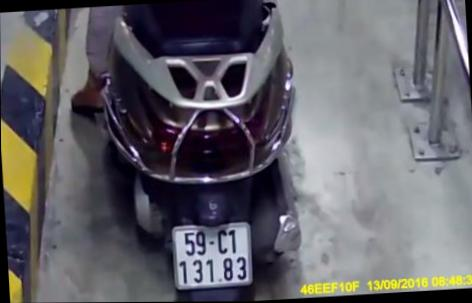LP: (172, 223, 252, 289)
